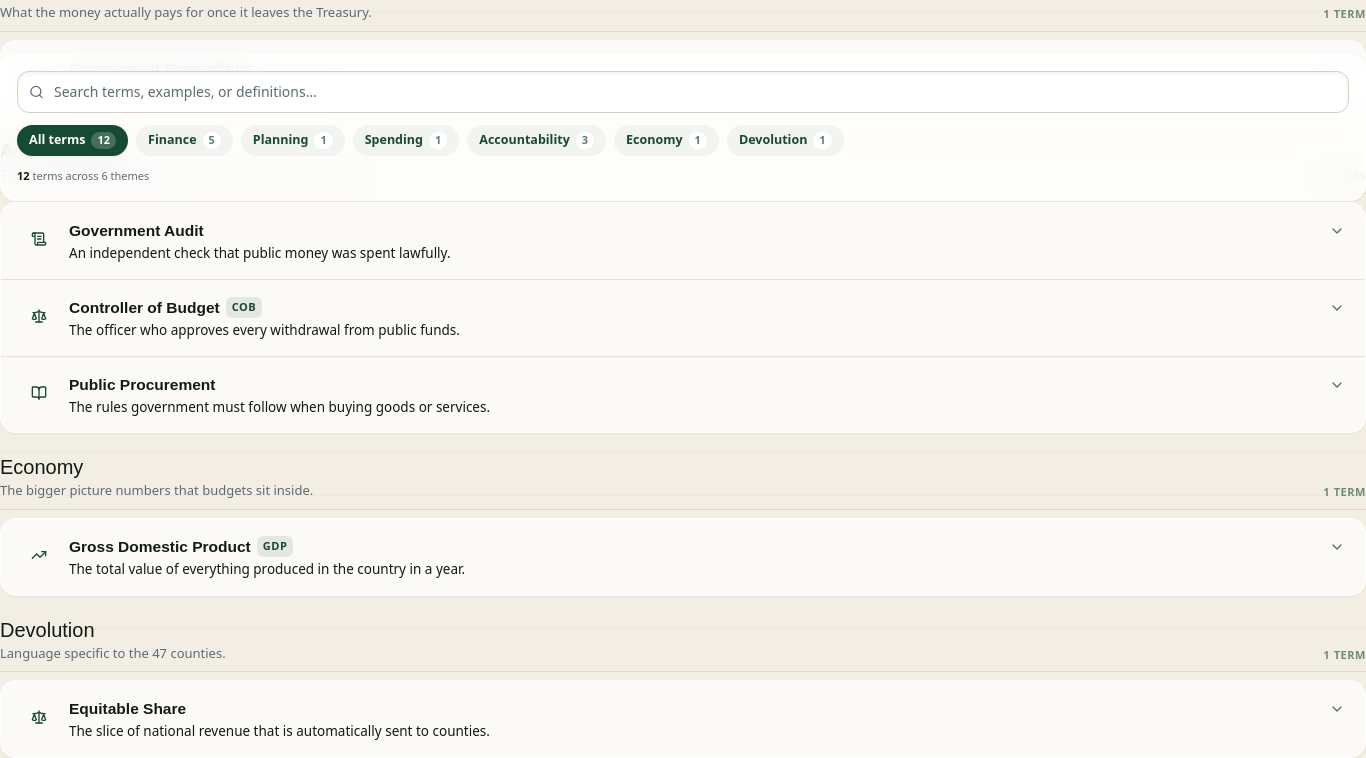
Test: interpolates live GDP (trillion) and equitable share (billion) figures
(page scrolled)
Click the text "Gross Domestic Product": (160, 547) [69,535,251,558]
(page scrolled)
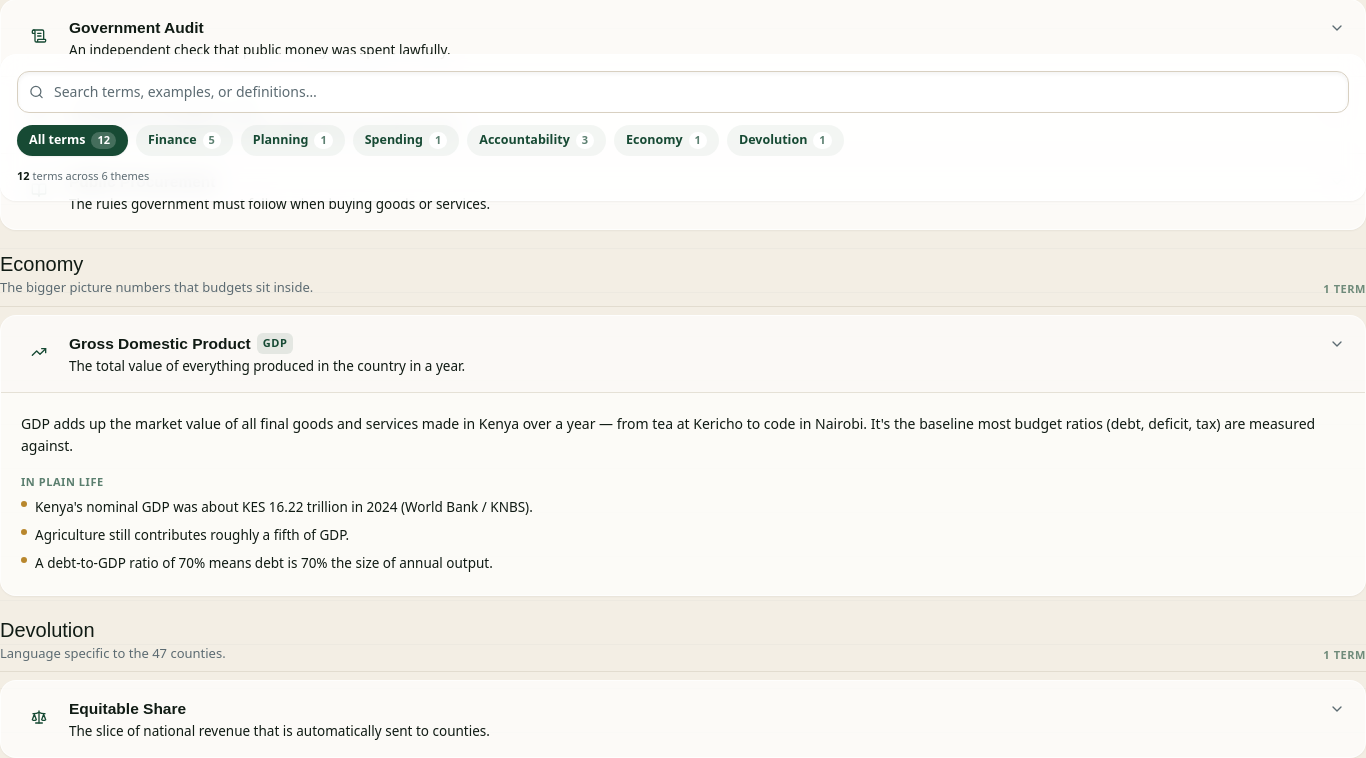
Result: the text "Kenya's nominal GDP was about KES 16.22 trillion in 2024" is shown at [35,498,533,516]
Click the text "Equitable Share": (128, 709) [69,697,186,720]
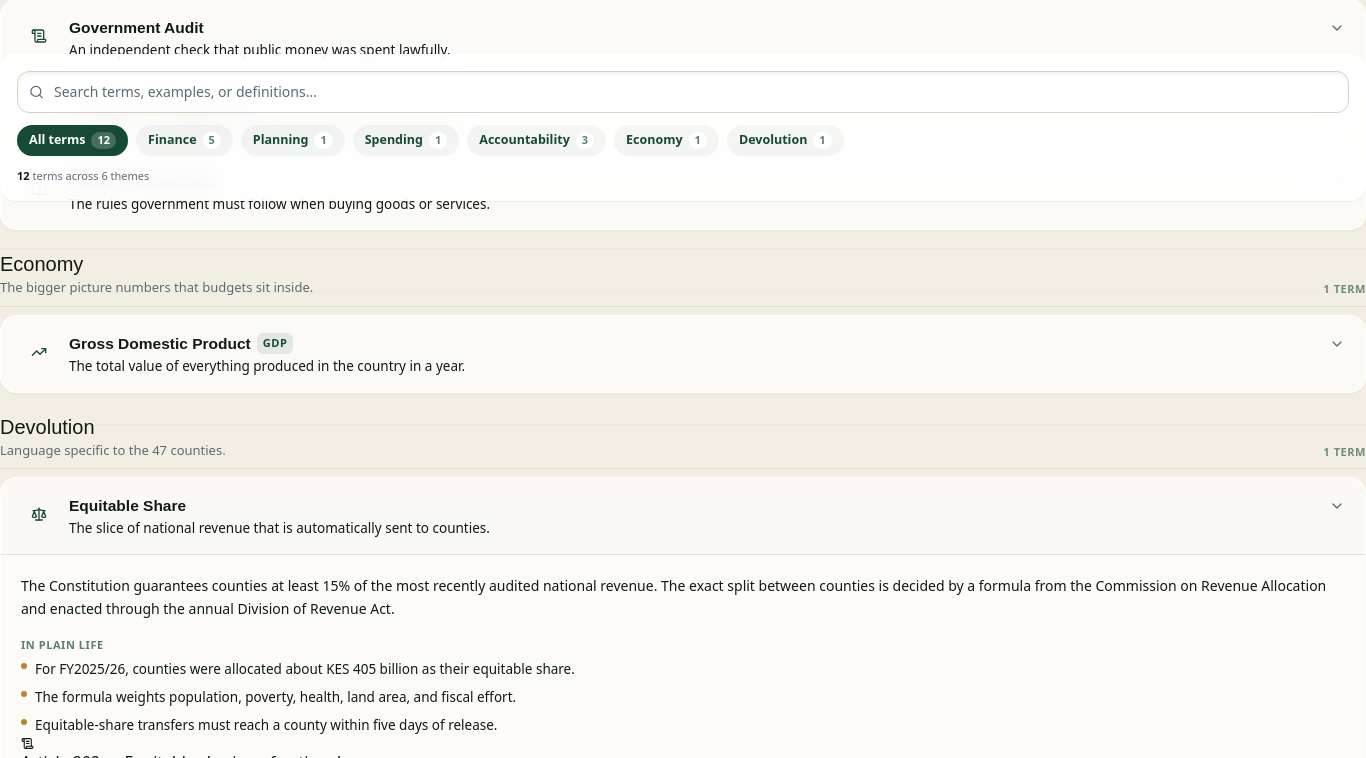
Result: the text "For FY2025/26, counties were allocated about KES 405 billion" is shown at [35,660,575,678]
